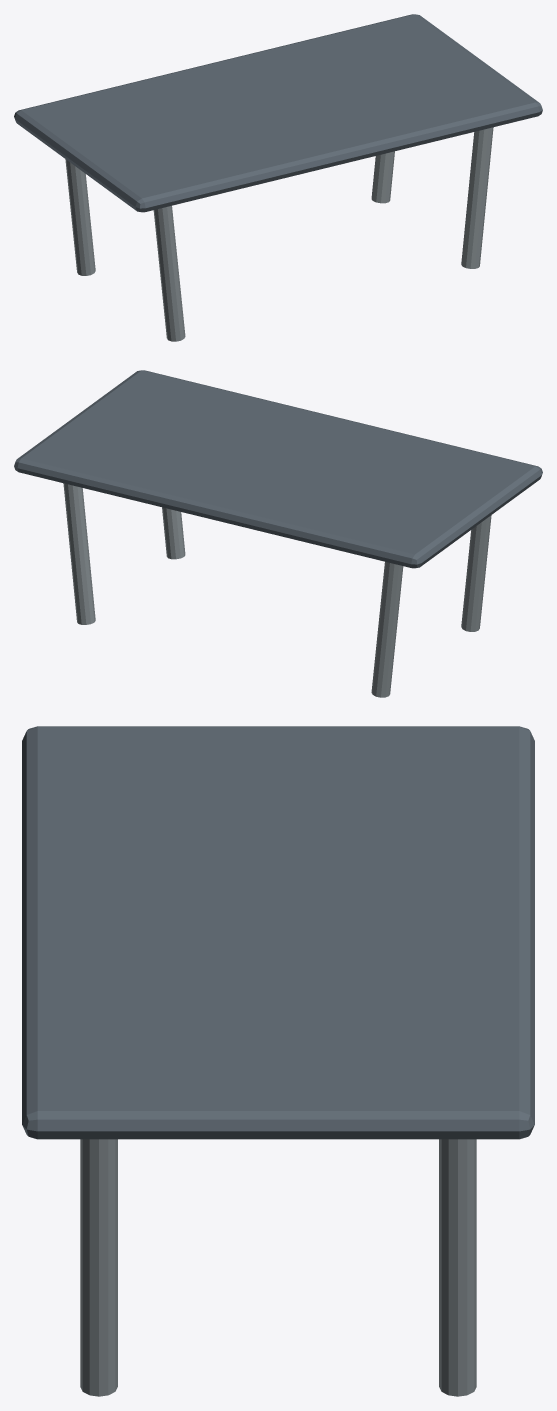
The model's file is ai.coffee-table.glb.
The picture shows the model from 3 angles, top to bottom: view 1: azimuth 30°, elevation 25°; view 2: azimuth 150°, elevation 25°; view 3: azimuth 270°, elevation 25°; orthographic projection. The views are drawn at different scales.
Parts seen in each view (by area): view 1: Hero_Asset; view 2: Hero_Asset; view 3: Hero_Asset.
Boxes of the visible parts, x1,y1,x2,y2 form: Hero_Asset: (14,14,542,341); Hero_Asset: (14,370,542,697); Hero_Asset: (22,726,534,1396).
Size of the model in its own units: 1.1 by 0.42 by 0.5982.
